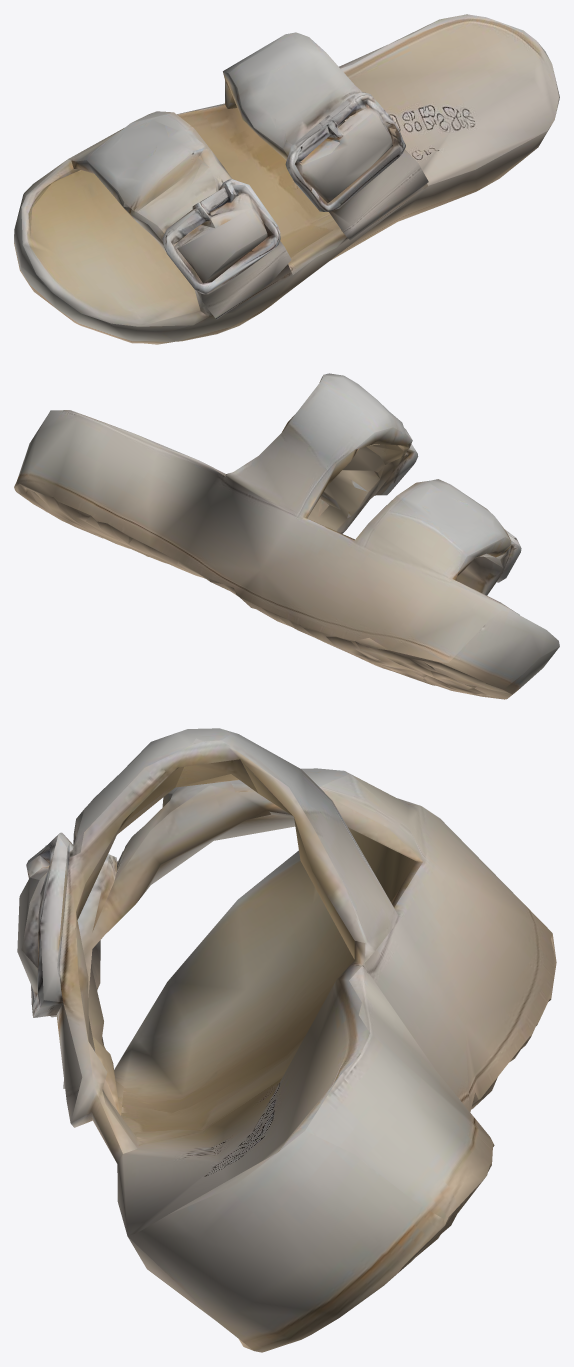
File: calçados-no-texture-final.glb
The picture shows the model from 3 angles, top to bottom: view 1: azimuth 30°, elevation 25°; view 2: azimuth 150°, elevation 25°; view 3: azimuth 270°, elevation 25°; orthographic projection. The views are drawn at different scales.
Visible parts, largest first — view 1: textured_mesh; view 2: textured_mesh; view 3: textured_mesh.
Part boxes in pixels (box(x1,y1,x2,y2)): textured_mesh: box(14, 14, 559, 344); textured_mesh: box(14, 373, 559, 699); textured_mesh: box(17, 728, 556, 1352).
Bounding box in the file's own units: 1.99 × 1.02 × 0.8992.
1 material, 1 textured.
